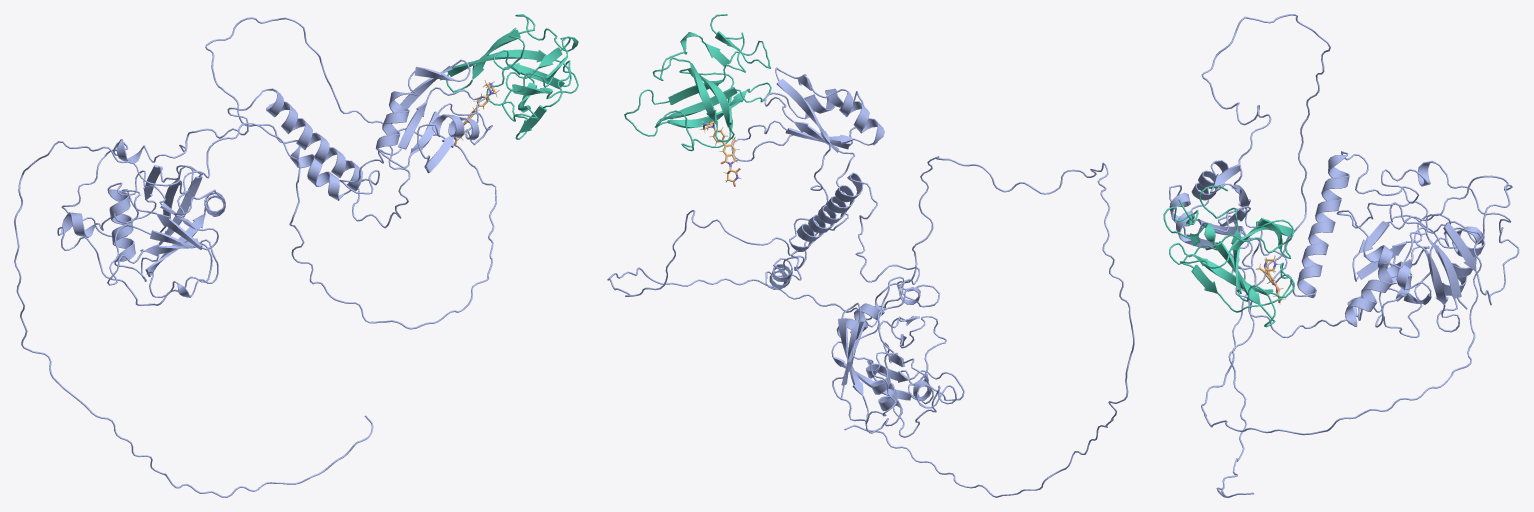
The picture shows the model from 3 angles, left to right: view 1: azimuth 30°, elevation 25°; view 2: azimuth 150°, elevation 25°; view 3: azimuth 270°, elevation 25°; orthographic projection. The views are drawn at different scales.
Visible parts, largest first — view 1: node-geom102, node-geom103; view 2: node-geom102, node-geom103; view 3: node-geom102, node-geom103.
Part boxes in pixels (left/top/right/bottom): node-geom102: left=57, top=14, right=578, bottom=305; node-geom103: left=14, top=17, right=496, bottom=497; node-geom102: left=624, top=14, right=964, bottom=437; node-geom103: left=607, top=67, right=1134, bottom=497; node-geom102: left=1163, top=151, right=1519, bottom=337; node-geom103: left=1169, top=14, right=1512, bottom=497.
Bounding box in the file's own units: 145 × 103 × 80.25.
